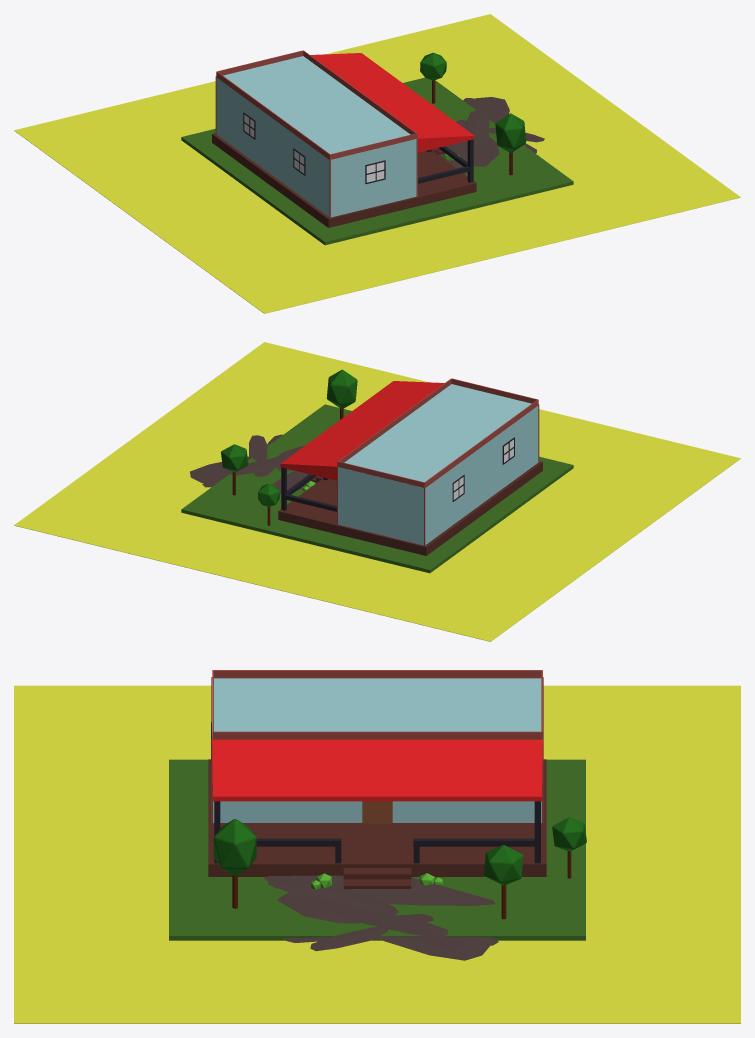
Rendered from field-house.fbx.
3 renders of one model, top to bottom at view 1: azimuth 30°, elevation 25°; view 2: azimuth 150°, elevation 25°; view 3: azimuth 270°, elevation 25°, orthographic. The views are drawn at different scales.
Visible parts, largest first — view 1: Background, Cube.003, Field House, Cube.004, Cube.002, Cylinder.004, Icosphere.001, Cube.027, Cube.026, Cylinder.003, Icosphere.003, Cube.028 (+1 smaller); view 2: Background, Cube.003, Field House, Cube.004, Cube.002, Icosphere.001, Cube.027, Cube.026, Cylinder.004, Icosphere.003, Cube.029, Cube.028 (+1 smaller); view 3: Background, Field House, Cube.003, Cube.004, Cube.002, Cylinder.004, Cube.026, Cube.027, Cylinder, Icosphere.001, Cylinder.003, Cylinder.002 (+8 smaller).
Part boxes in pixels (x1,y1,x2,y2): Background: (14,14,740,313); Cube.003: (216,56,416,217); Field House: (181,77,573,245); Cube.004: (310,53,474,152); Cube.002: (212,133,476,227); Cylinder.004: (468,97,509,166); Icosphere.001: (495,113,526,152); Cube.027: (216,71,330,159); Cube.026: (303,50,417,138); Cylinder.003: (466,110,489,143); Icosphere.003: (420,52,446,80); Cube.028: (330,133,416,159); Background: (14,342,740,641); Cube.003: (338,384,538,545); Field House: (181,404,573,573); Cube.004: (280,381,444,480); Cube.002: (278,461,542,555); Icosphere.001: (327,369,357,408); Cube.027: (424,399,538,487); Cube.026: (337,378,451,466); Cylinder.004: (190,445,304,483); Icosphere.003: (221,444,248,472); Cube.029: (338,461,424,487); Cube.028: (451,378,537,403); Background: (14,685,740,1023); Field House: (169,759,585,940); Cube.003: (212,678,541,822); Cube.004: (212,739,542,801); Cube.002: (208,759,546,876); Cylinder.004: (277,892,489,960); Cube.026: (212,731,542,739); Cube.027: (212,670,542,678); Cylinder: (264,875,494,905); Icosphere.001: (213,819,256,875); Cylinder.003: (347,908,447,937); Cylinder.002: (287,878,498,945).
Size of the model in its own units: 3066 by 469 by 2790.
